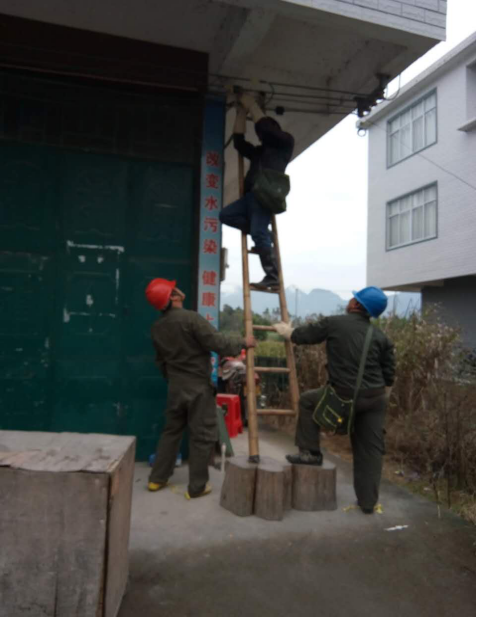downcloth: (292, 392, 388, 513), (149, 380, 221, 498)
downsuit: (218, 191, 284, 291)
halt: (145, 278, 189, 311), (345, 286, 388, 318)
hand: (243, 335, 257, 348)
inear: (346, 297, 362, 312)
longglove: (240, 94, 266, 121), (231, 103, 247, 133)
outear: (167, 289, 183, 301)
person: (289, 284, 397, 514), (135, 273, 226, 492), (214, 114, 298, 287)
shoe: (251, 245, 281, 292)
upcloth: (286, 311, 392, 388), (152, 311, 219, 383)
upsuit: (232, 131, 291, 194)
wglove: (273, 320, 294, 340)
